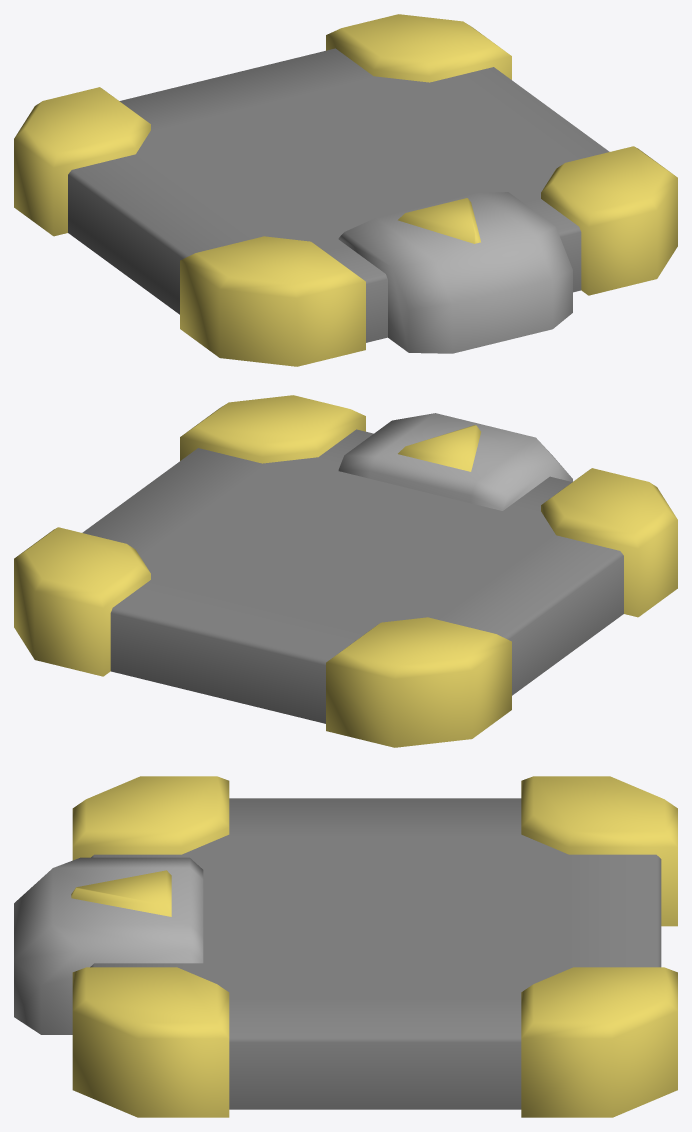
File: YellowPieceBasePlate.glb
3 views of the same model, one above another, from view 1: azimuth 30°, elevation 25°; view 2: azimuth 150°, elevation 25°; view 3: azimuth 270°, elevation 25° (orthographic). The views are drawn at different scales.
Parts seen in each view (by area): view 1: Peice Base - Yellow; view 2: Peice Base - Yellow; view 3: Peice Base - Yellow.
Part boxes in pixels (x1=…): Peice Base - Yellow: x1=14, y1=14, x2=677, y2=366; Peice Base - Yellow: x1=14, y1=395, x2=677, y2=747; Peice Base - Yellow: x1=14, y1=776, x2=677, y2=1117.
Bounding box in the file's own units: 0.8785 × 0.1605 × 0.9559.
